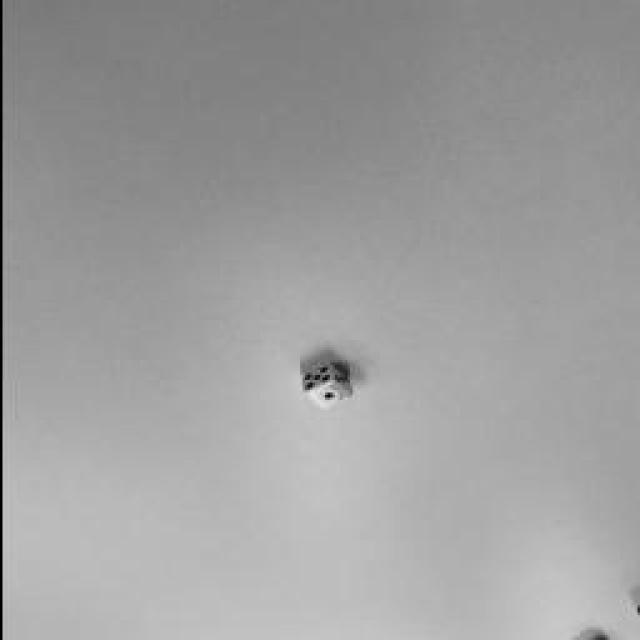dice_1: (305, 380, 350, 410)
